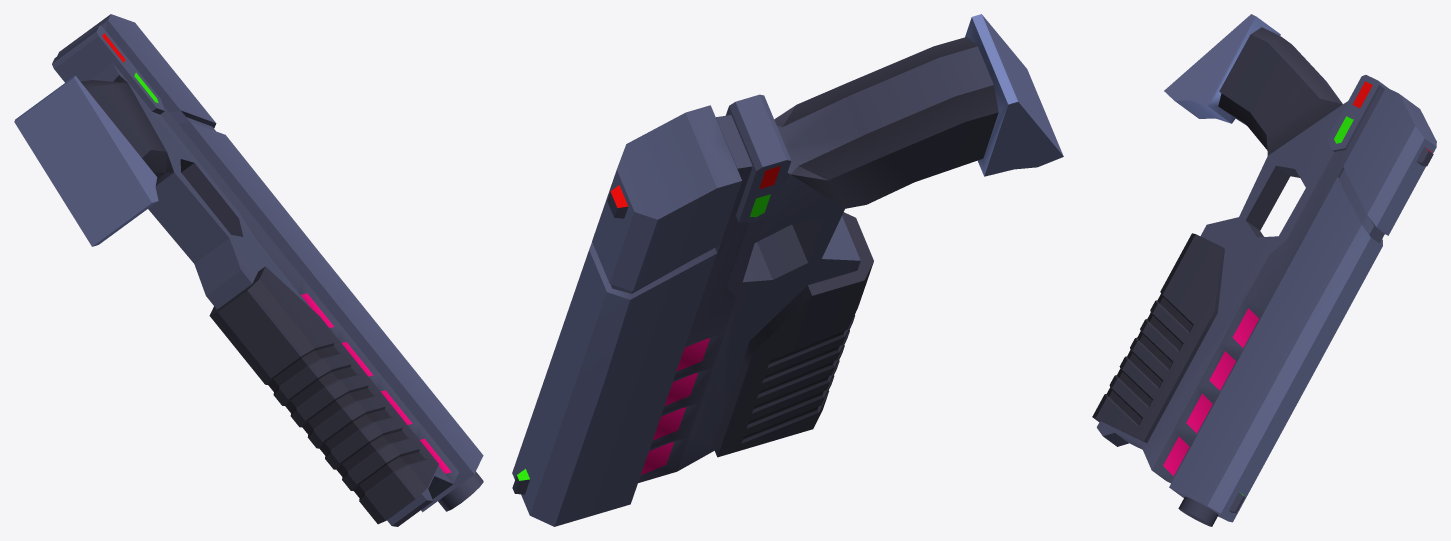
Rendered from w_handgun@draw.FBX.
The picture shows the model from 3 angles, left to right: view 1: azimuth 30°, elevation 25°; view 2: azimuth 150°, elevation 25°; view 3: azimuth 270°, elevation 25°; orthographic projection. The views are drawn at different scales.
Parts seen in each view (by area): view 1: Box004; view 2: Box004; view 3: Box004.
Boxes of the visible parts, bbox=[...] form: Box004: bbox=[14, 14, 483, 526]; Box004: bbox=[512, 14, 1063, 526]; Box004: bbox=[1092, 14, 1436, 526].
Bounding box in the file's own units: 37.47 × 41.49 × 34.01.
